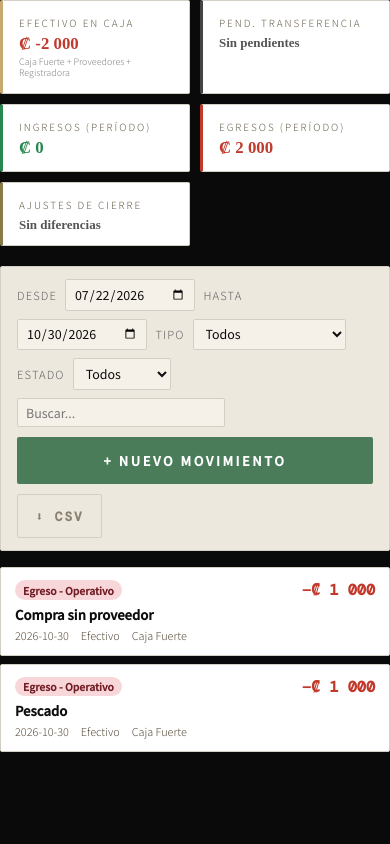
Test: CashMovimientos · buscador con supplier_name/employee_name NULL › sigue filtrando por nombre de proveedor con filas de nombres null presentes
This screenshot has width=390, height=844.
Step 1. Type "pescaderia" into the field with placeholder "Buscar..." → (121, 413), box x1=17 y1=398 x2=225 y2=427
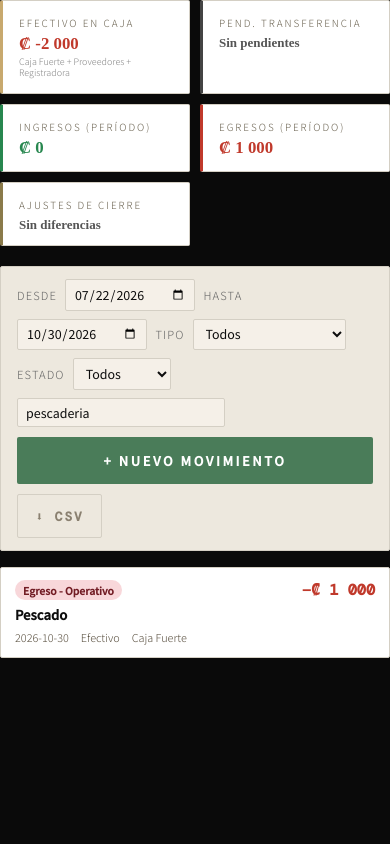
Check: the text "Pescado" is shown, box x1=15 y1=605 x2=67 y2=624
Check: the text "Compra sin proveedor" is gone
